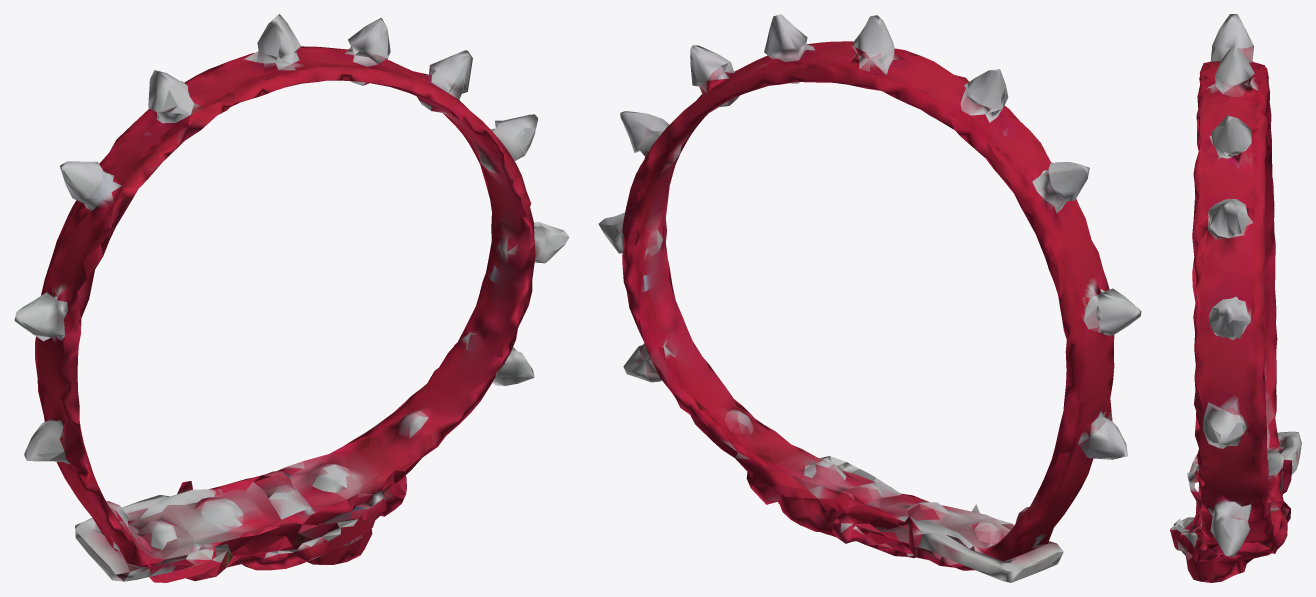
The model's file is collar.glb.
3 views of the same model, side by side, from view 1: azimuth 30°, elevation 25°; view 2: azimuth 150°, elevation 25°; view 3: azimuth 270°, elevation 25° (orthographic). The views are drawn at different scales.
Visible parts, largest first — view 1: texture_pbr_v128; view 2: texture_pbr_v128; view 3: texture_pbr_v128.
Part boxes in pixels (box(x1,y1,x2,y2)): texture_pbr_v128: box(14, 14, 569, 582); texture_pbr_v128: box(598, 14, 1141, 582); texture_pbr_v128: box(1170, 14, 1301, 582).
Bounding box in the file's own units: 1.91 × 1.8 × 0.4234.
Materials: 1 (1 with a texture image).
